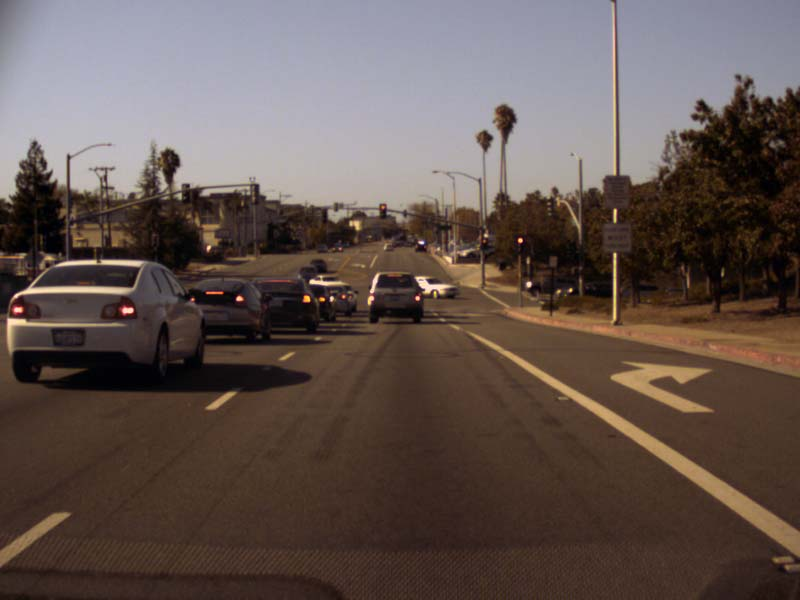Red: (516, 237, 525, 253), (379, 203, 385, 218), (480, 237, 487, 247)
